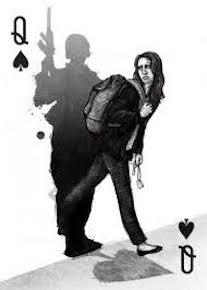QueenOfSpades: (4, 4, 207, 284)
